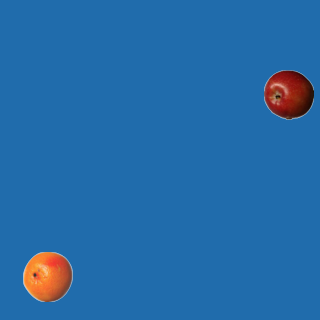Apple Braeburn: (263, 69, 313, 119)
Grapefruit Pink: (22, 251, 72, 301)
